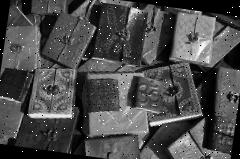paper: (76, 64, 156, 145), (134, 56, 210, 134), (39, 7, 97, 72), (91, 1, 148, 66), (161, 110, 235, 159), (26, 62, 79, 123), (134, 2, 176, 66), (168, 10, 216, 65), (1, 20, 44, 72), (209, 65, 240, 118), (124, 74, 166, 113)
